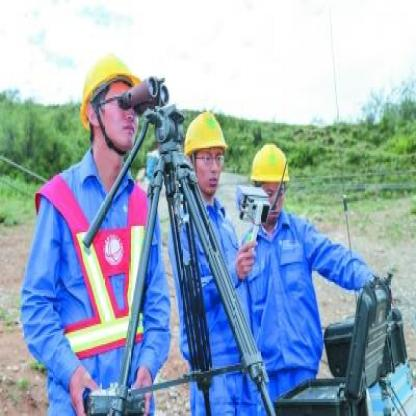helmet: (72, 42, 146, 161), (177, 106, 231, 198), (246, 136, 294, 216)
